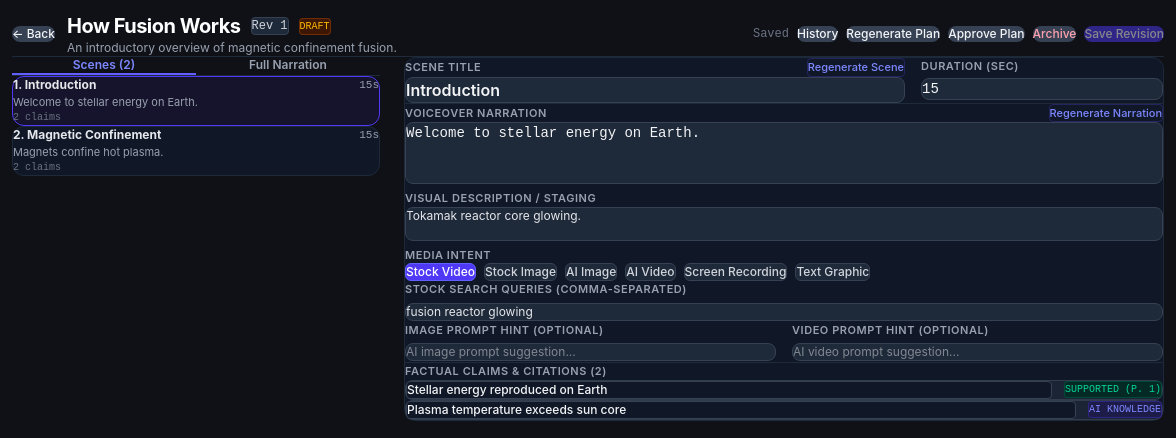
Test: ContentPlanEditor Component › saves revision with expectedRevision and increments revision number
Replace the text in the text box showing "Welcome to stellar energy on Earth." below "Voiceover Narration" with "Updated narration line.": (784, 153) [405,122,1163,184]
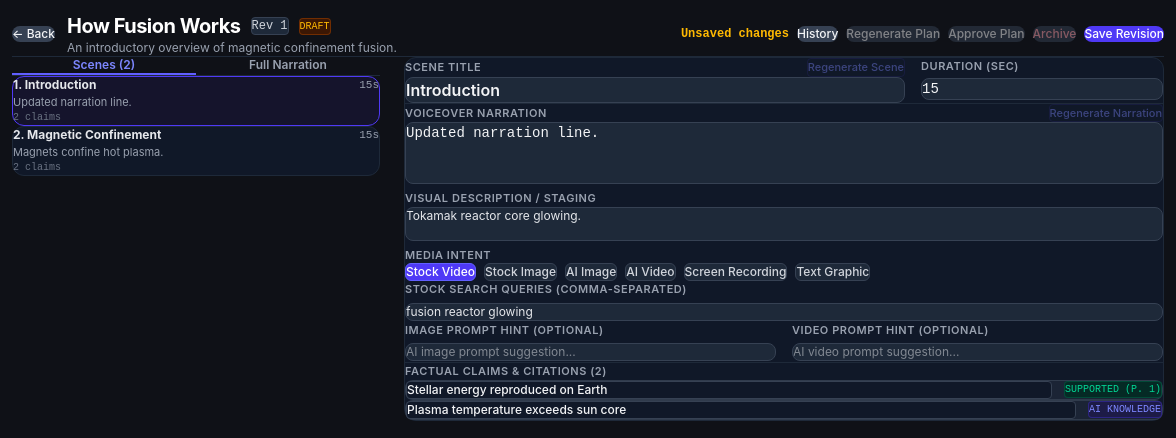
Click the button "Save Revision": click(1124, 34) [1084,26,1164,42]
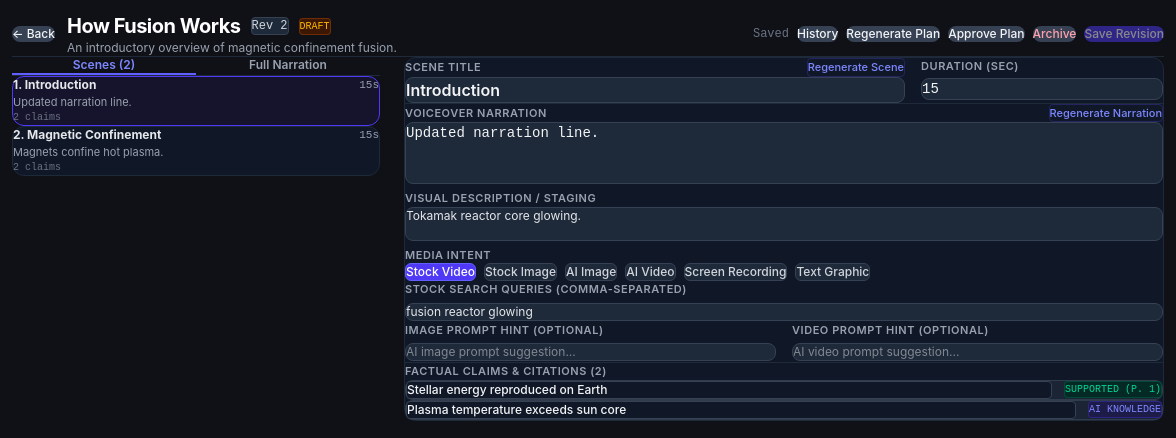
Now the text "Rev 2" is shown, box [250,17,288,35]
Now the button "Save Revision" is disabled, box [1084,26,1164,42]
